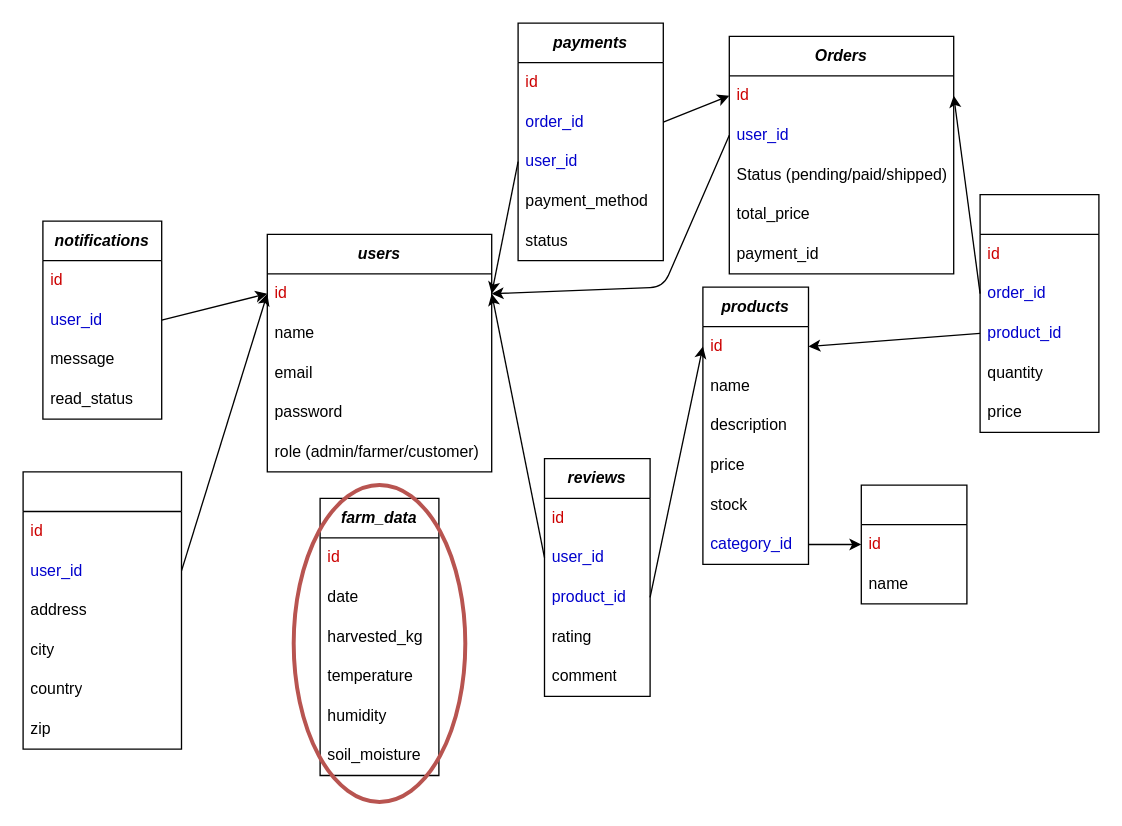
This 1122x826 diagram has some shape labels left out. The box of each missing label's shape, as (x1, y1, x2, y2) in pixels:
categories: (860, 484, 967, 604)
delivery_addresses: (22, 471, 182, 749)
order_items: (979, 193, 1099, 432)
